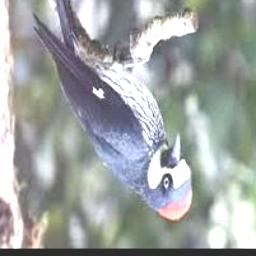Woodpecker: (32, 0, 191, 224)
